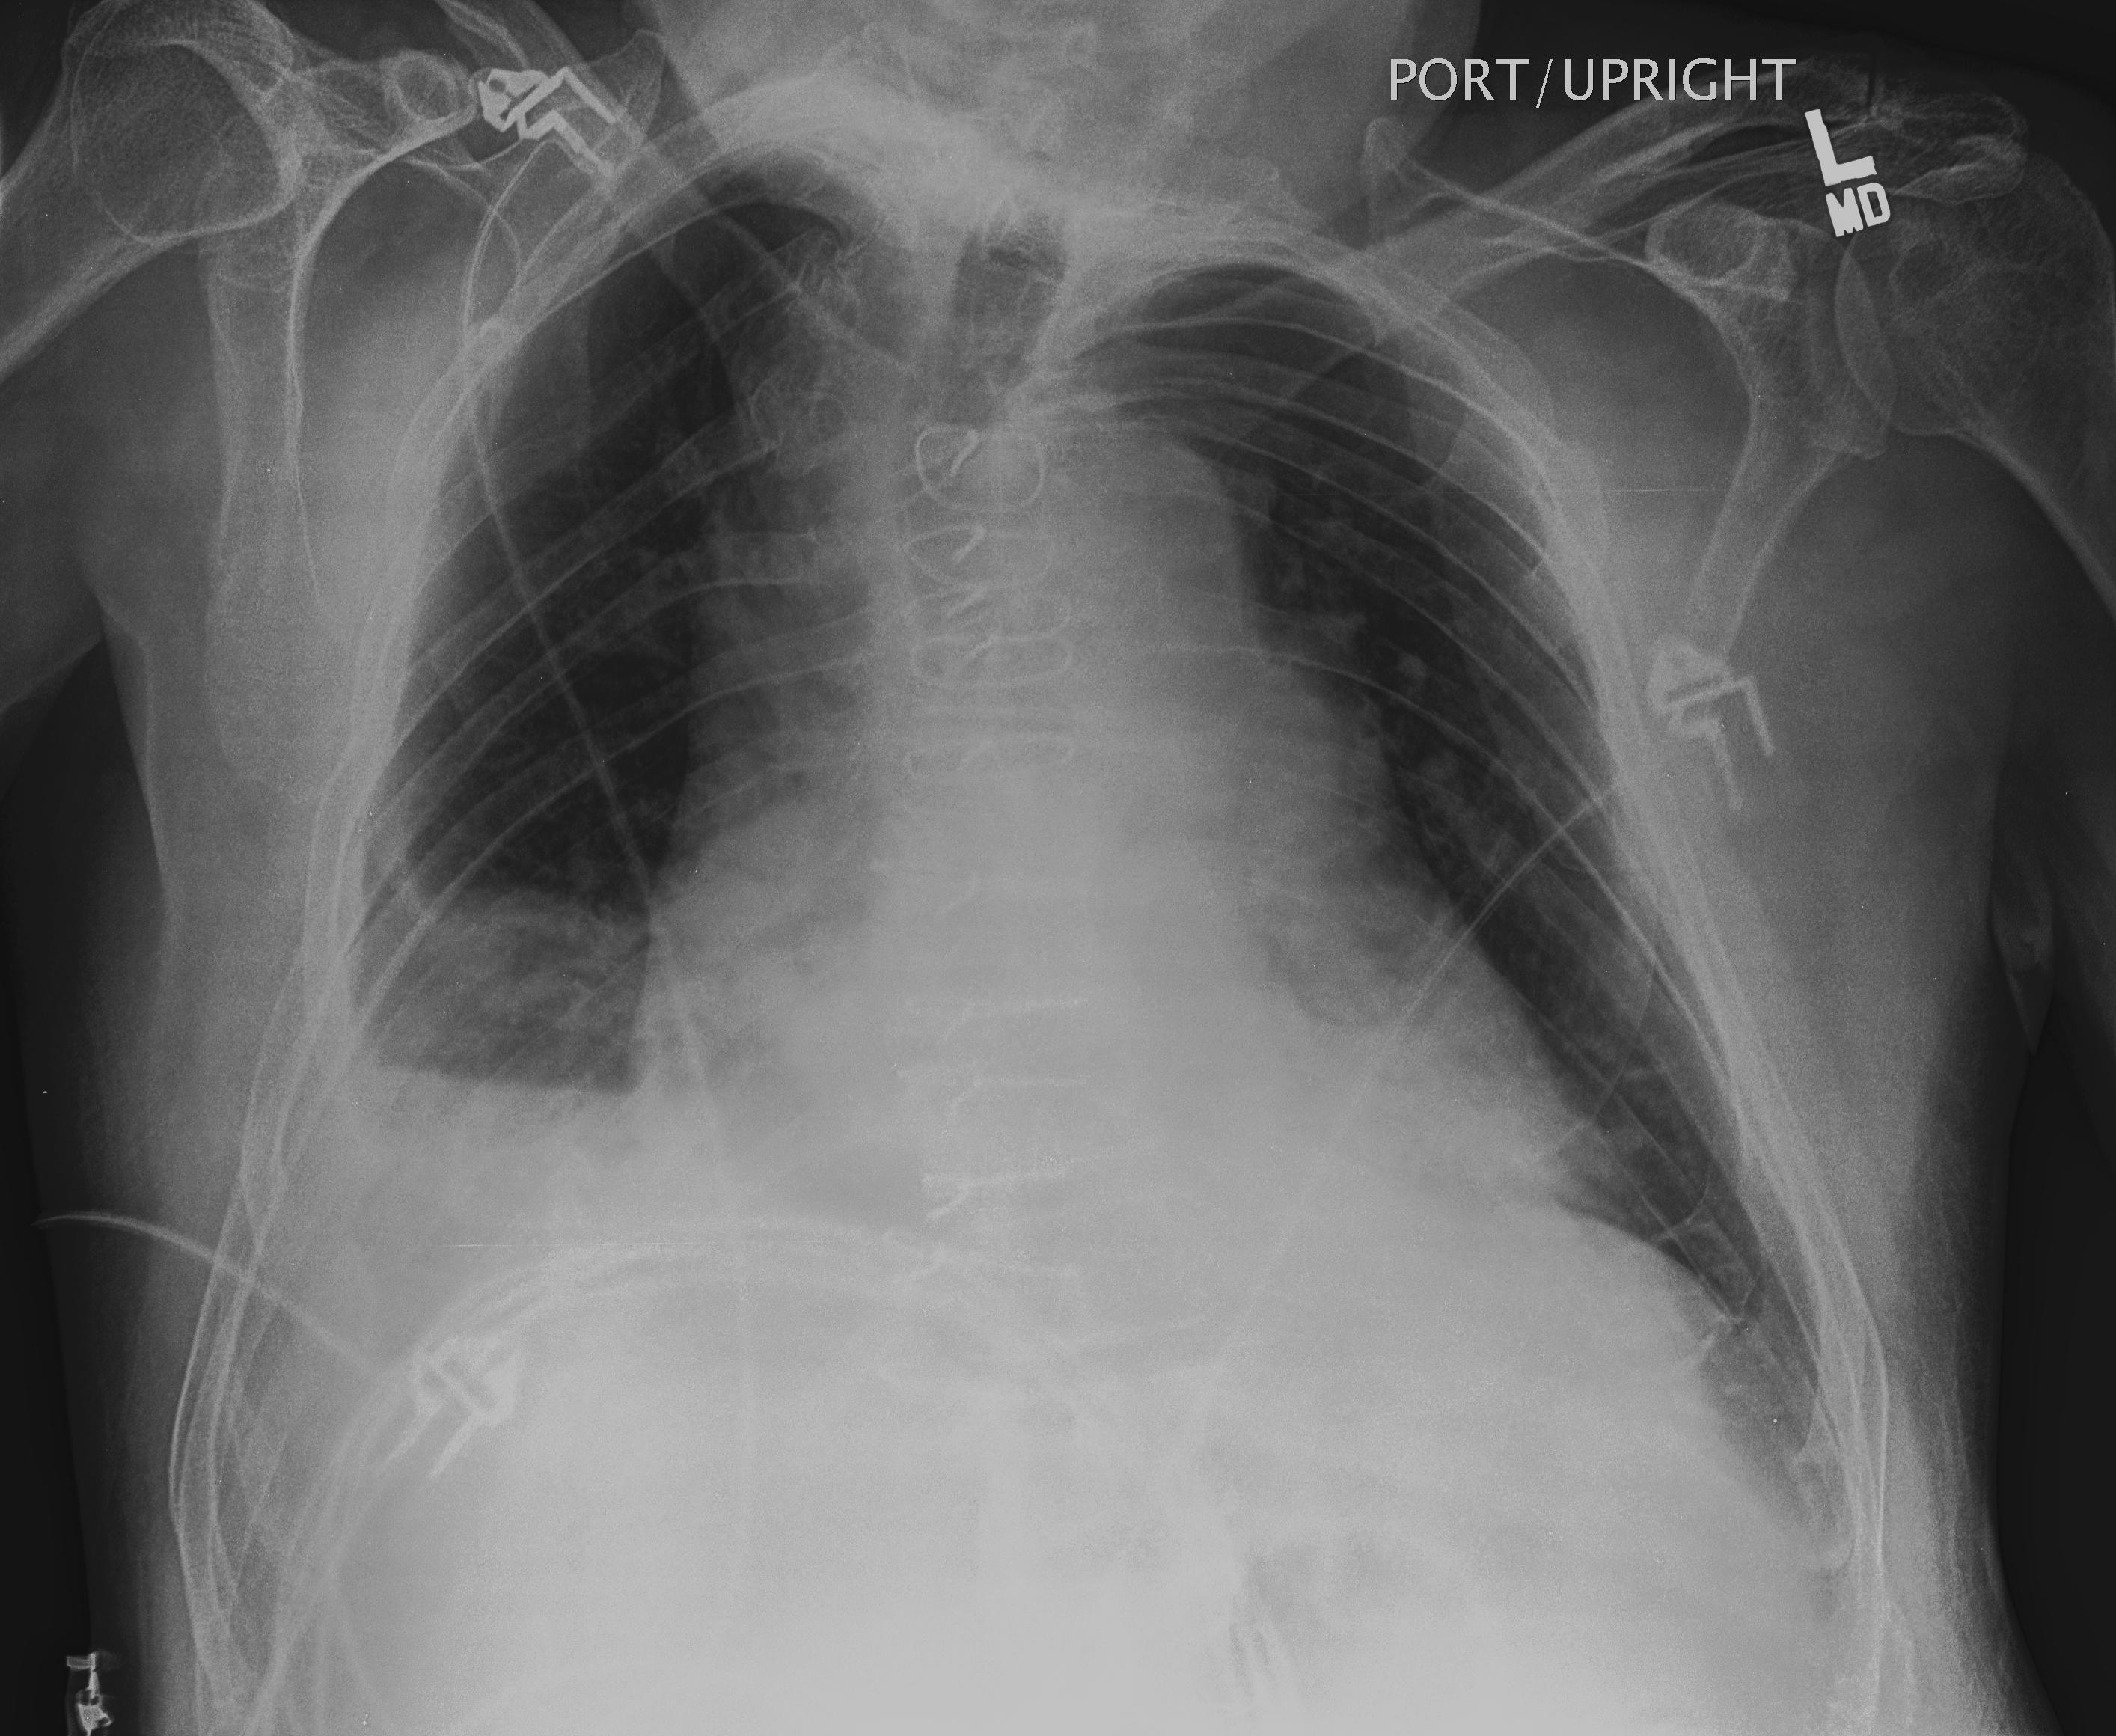Pleural Effusion: (248, 1065, 661, 1464)
